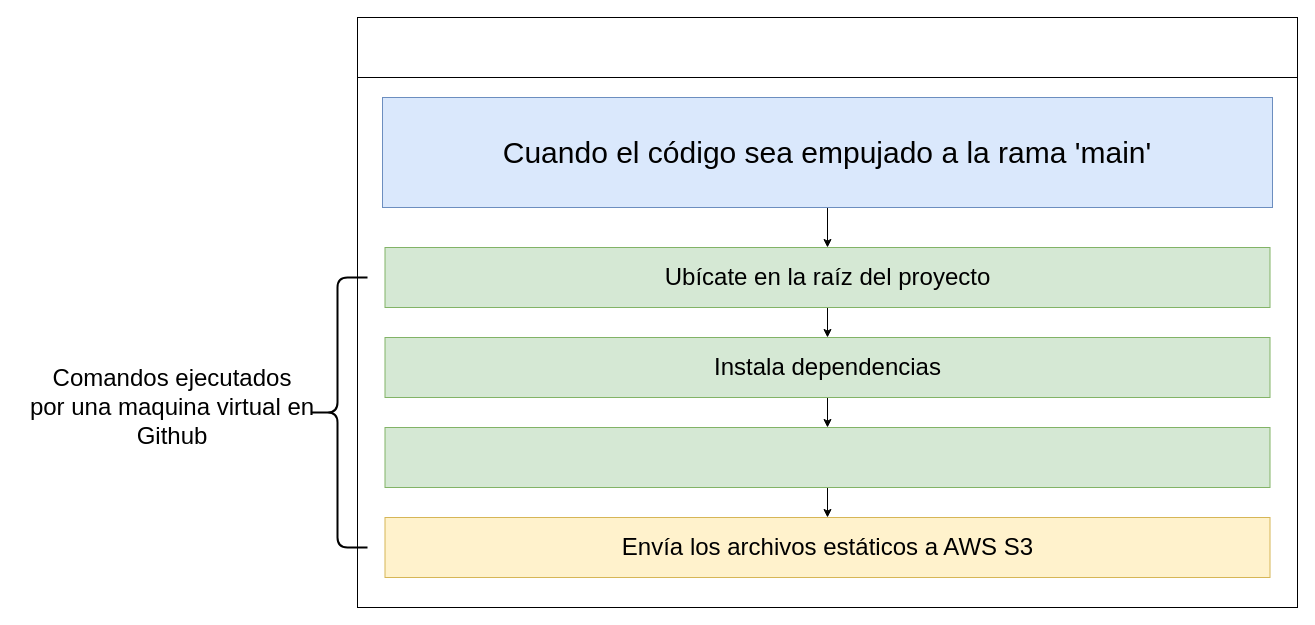
This 1315x625 diagram has some shape labels left out. Each missing label, with the centre of its shape:
"Crea una versión de producción" belongs at (827,457).
"Flujo de trabajo para hacer deploy de nuestra app en React" belongs at (827,47).
